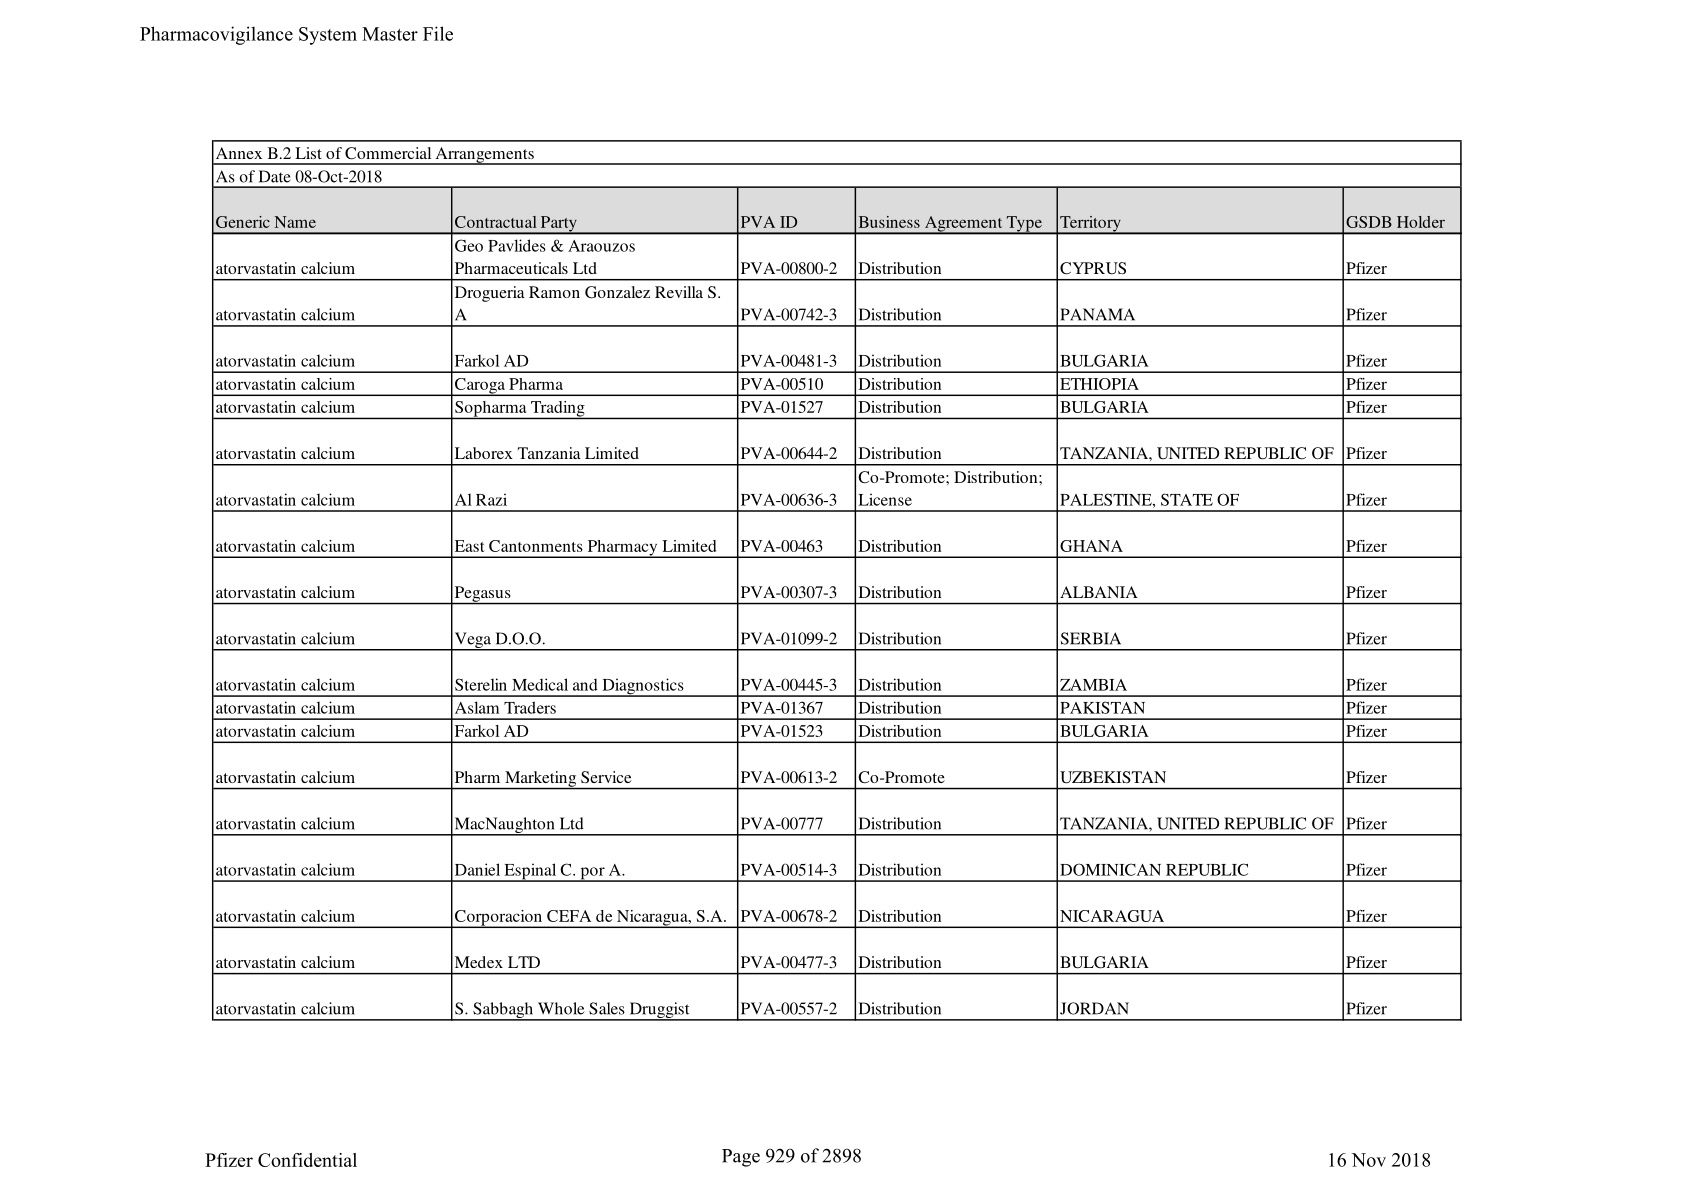merged_cells: (211, 139, 1465, 1022)
